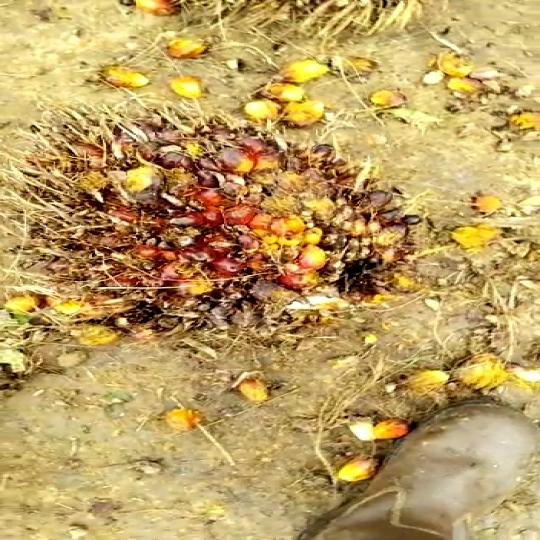terlalu masak: (0, 80, 411, 357)
